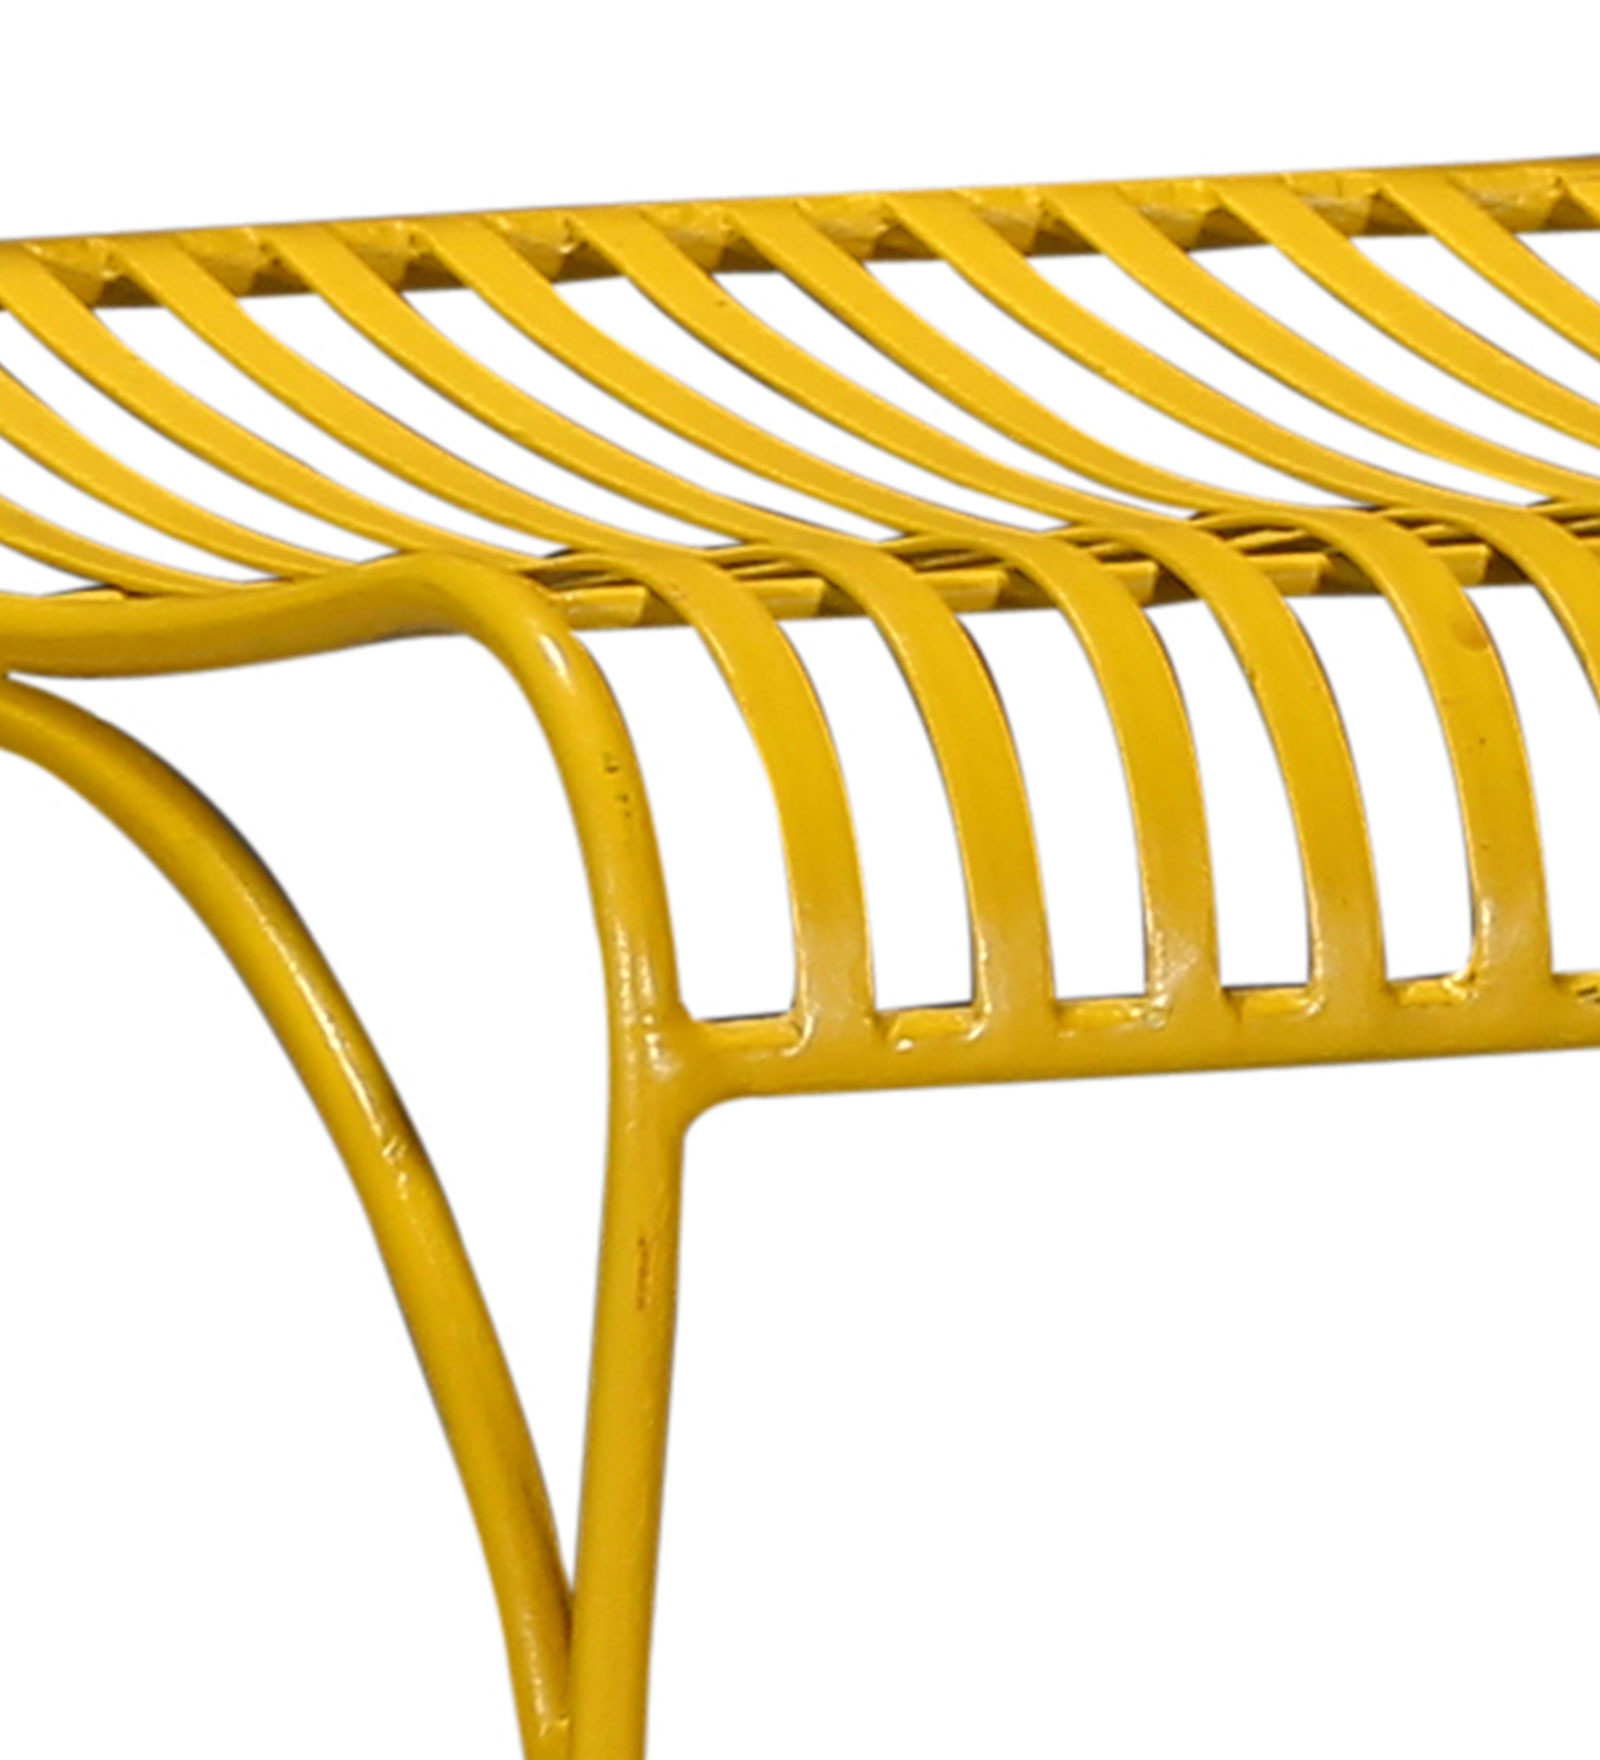Lisheen Outdoor Iron Chair in Yellow Color by Bohemiana: (12, 176, 1600, 1760)
